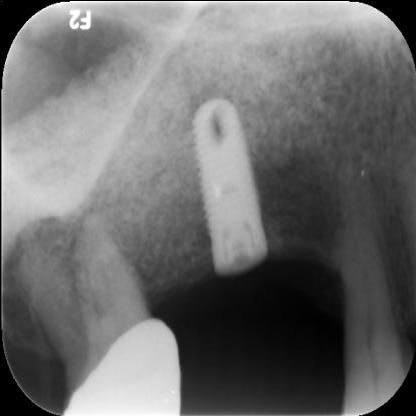ITI: (173, 84, 287, 272)
